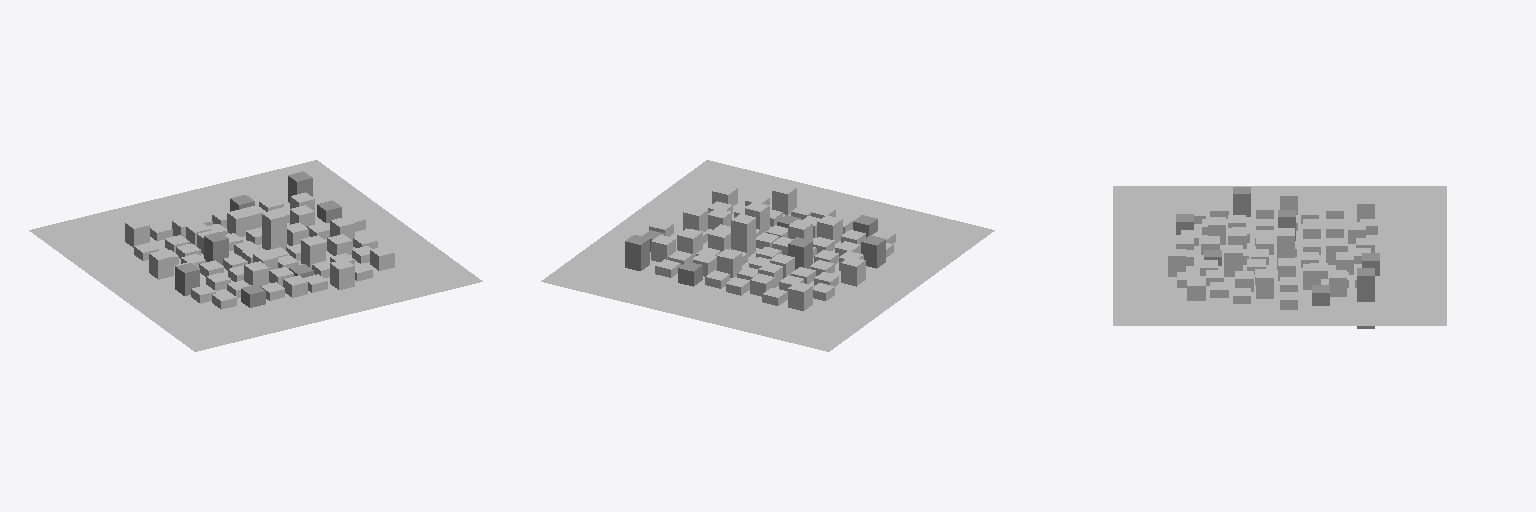
Rendered from combinedObjs.obj.
The picture shows the model from 3 angles: view 1: azimuth 30°, elevation 25°; view 2: azimuth 150°, elevation 25°; view 3: azimuth 270°, elevation 25°; orthographic projection.
Visible parts, largest first — view 1: Cube.027; view 2: Cube.027; view 3: Cube.027.
Boxes of the visible parts, x1=… form: Cube.027: x1=29, y1=160, x2=482, y2=351; Cube.027: x1=541, y1=160, x2=994, y2=351; Cube.027: x1=1113, y1=186, x2=1446, y2=328.
Size of the model in its own units: 13.2 by 2.98 by 13.2.